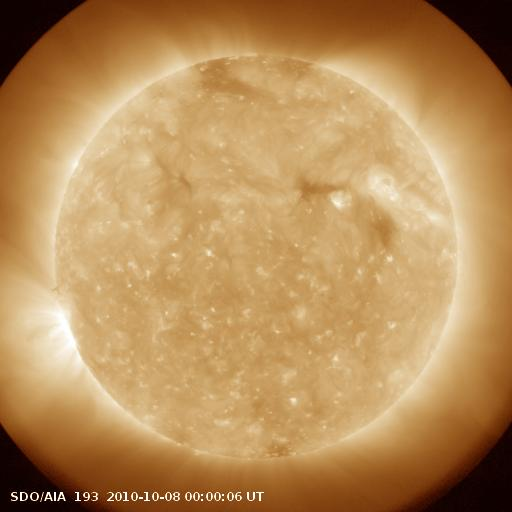coronal_hole: (195, 51, 264, 106), (364, 197, 405, 254), (295, 171, 346, 203)
